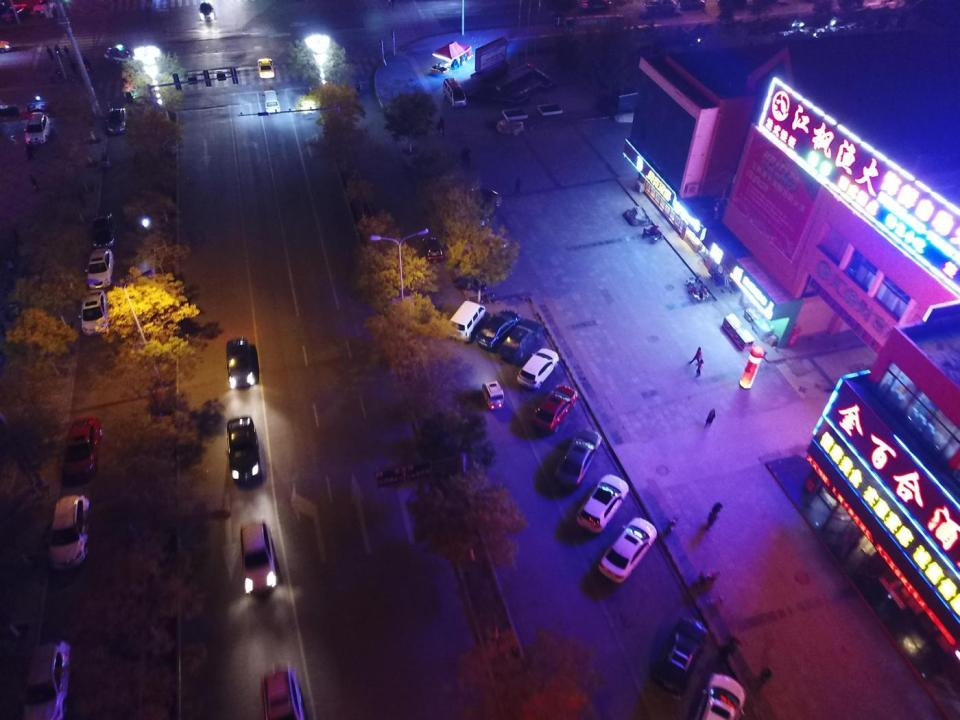car: (653, 616, 704, 699), (599, 518, 657, 584), (21, 642, 70, 720), (48, 496, 91, 569), (576, 475, 628, 532), (226, 416, 262, 486), (557, 428, 601, 485), (694, 673, 747, 720), (259, 666, 305, 720), (63, 418, 102, 481), (534, 386, 576, 432), (518, 346, 558, 390), (503, 320, 544, 362), (478, 310, 520, 349), (226, 337, 256, 389), (80, 290, 108, 334), (86, 249, 113, 290), (91, 214, 115, 247), (105, 44, 135, 62), (422, 238, 442, 262), (1, 4, 29, 21), (108, 108, 126, 133), (580, 1, 614, 11), (258, 58, 274, 78), (199, 1, 215, 20), (679, 0, 705, 10)
truck: (641, 0, 676, 16)
van: (238, 521, 278, 594), (445, 300, 485, 342), (25, 113, 50, 146), (468, 185, 500, 207), (444, 77, 466, 107), (482, 381, 503, 410), (264, 90, 279, 112)
